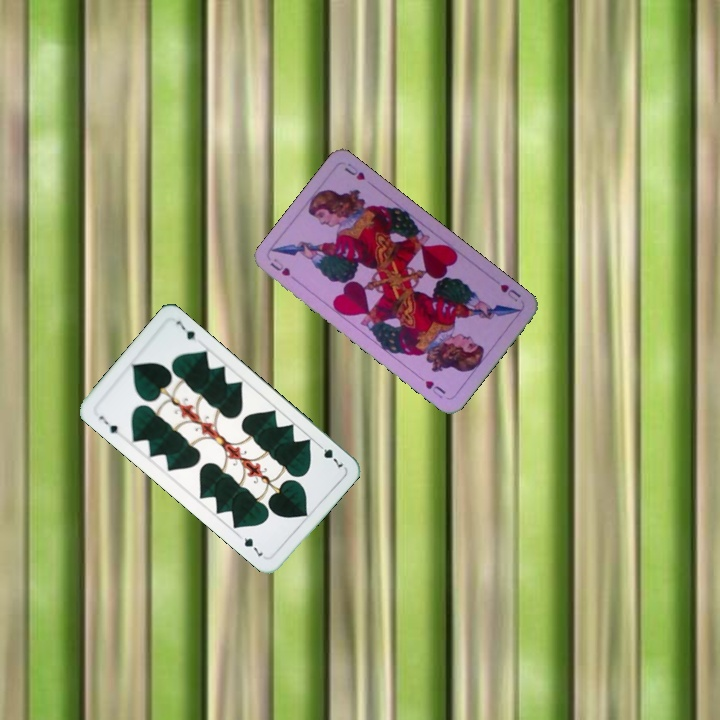G7: (313, 439, 346, 470), (95, 412, 120, 436)
HU: (266, 254, 301, 285), (496, 280, 523, 304)
